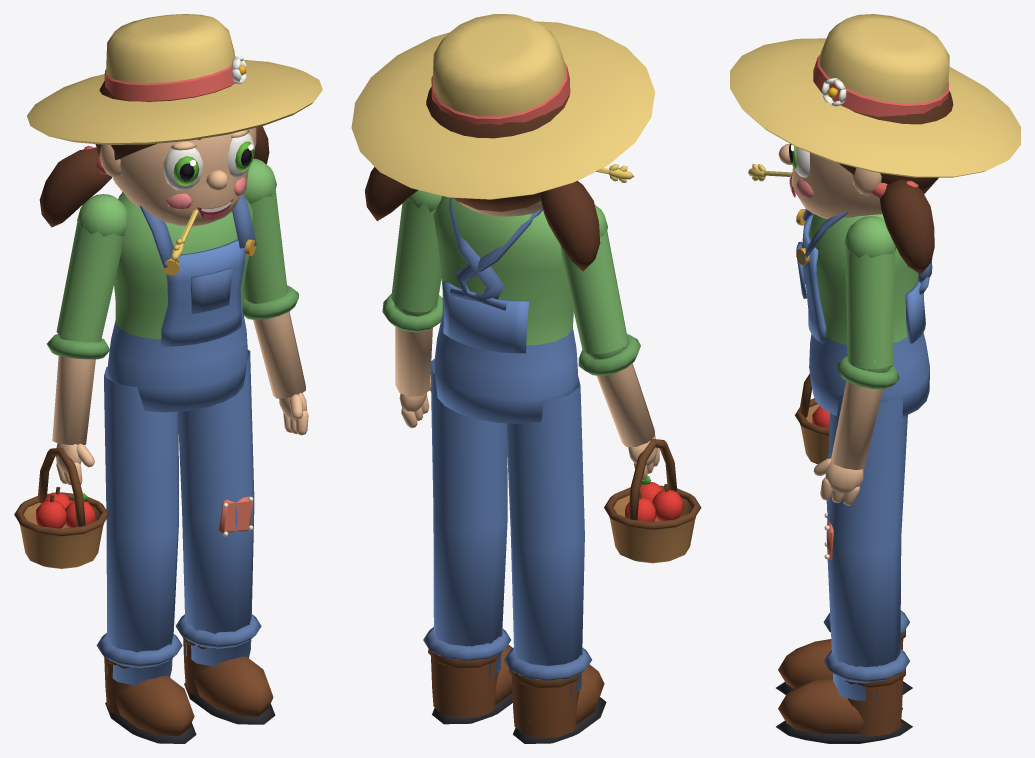
Rendered from npc_villager_b.glb.
The picture shows the model from 3 angles, left to right: view 1: azimuth 30°, elevation 25°; view 2: azimuth 150°, elevation 25°; view 3: azimuth 270°, elevation 25°; orthographic projection. The views are drawn at different scales.
Visible parts, largest first — view 1: Body, Head, ArmR, ArmL; view 2: Body, Head, ArmR, ArmL; view 3: Head, Body, ArmL, ArmR.
Boxes of the visible parts, x1,y1,x2,y2 form: Body: [96, 192, 275, 743]; Head: [27, 14, 322, 262]; ArmR: [14, 194, 128, 568]; ArmL: [242, 158, 308, 435]; Body: [423, 196, 606, 743]; Head: [351, 14, 654, 271]; ArmR: [560, 205, 701, 563]; ArmL: [382, 190, 442, 428]; Head: [730, 14, 1020, 274]; Body: [776, 209, 932, 743]; ArmL: [813, 216, 899, 505]; ArmR: [795, 373, 829, 464].
Size of the model in its own units: 0.8356 by 1.82 by 0.6971.
